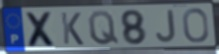8: (120, 8, 149, 46)
J: (155, 8, 178, 44)
K: (59, 11, 85, 47)
O: (181, 7, 211, 44)
Q: (87, 10, 121, 47)
X: (23, 10, 59, 49)
